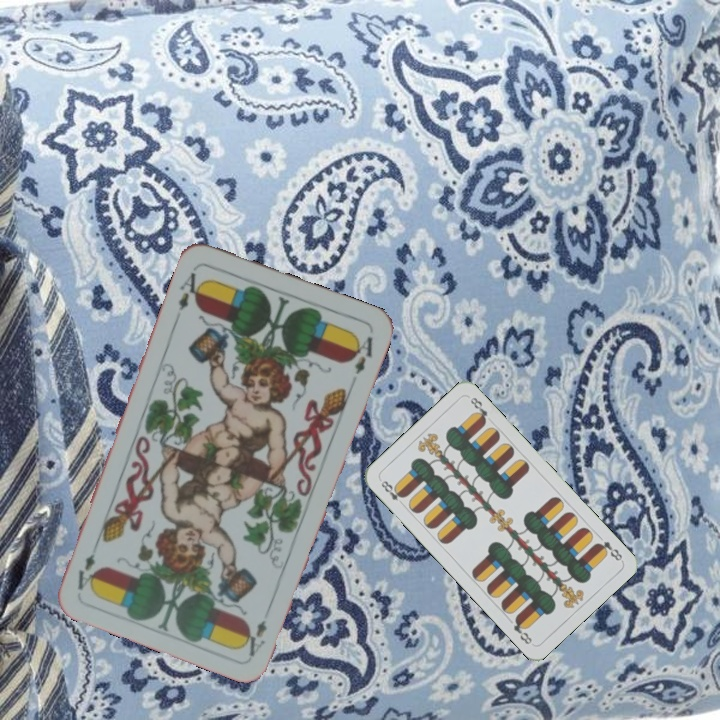E8: (377, 476, 408, 509), (591, 537, 625, 564)
EA: (239, 602, 274, 659), (173, 268, 207, 322)
